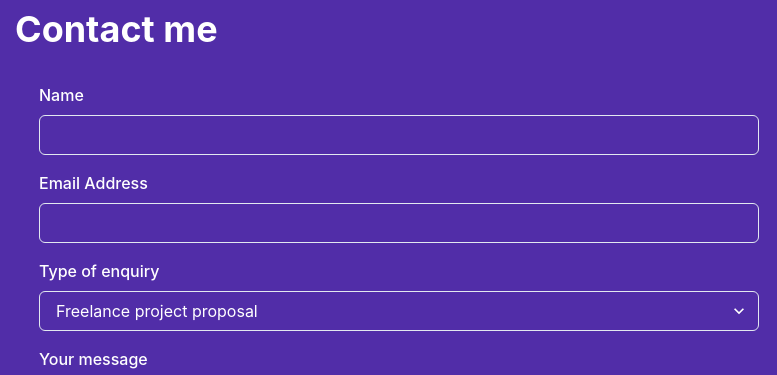
Test case: ContactMe Form › should display an error message if the email field is invalid
Type "invalid" into the field labelled "Email Address". click: (399, 223)
box: left=39, top=203, right=759, bottom=243
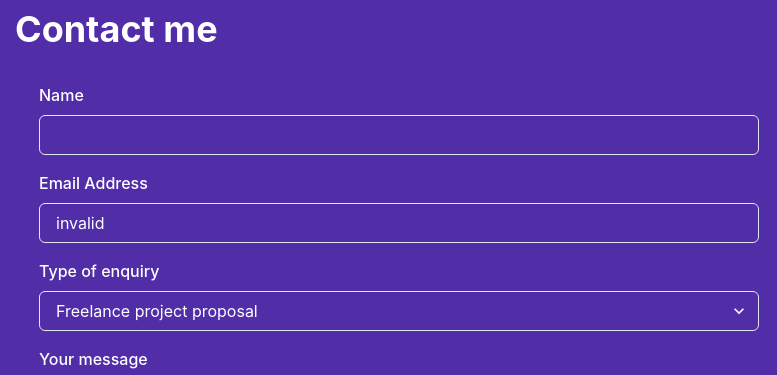
Leave the field labelled "Email Address", box left=39, top=203, right=759, bottom=243
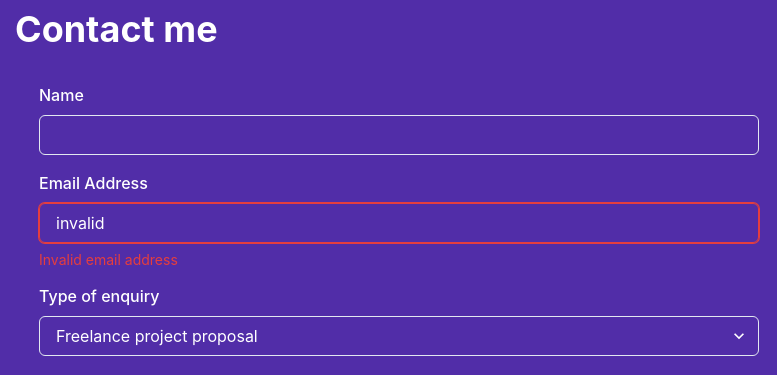
expect the text "Invalid email address" is shown: met, box left=39, top=251, right=178, bottom=268
